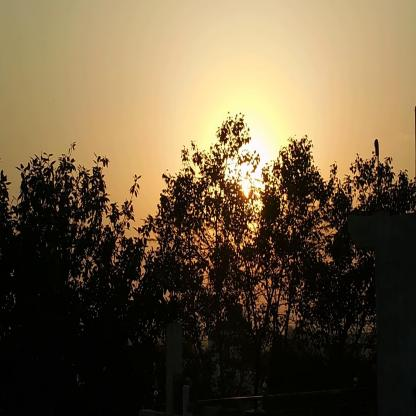other: (194, 67, 306, 247)
